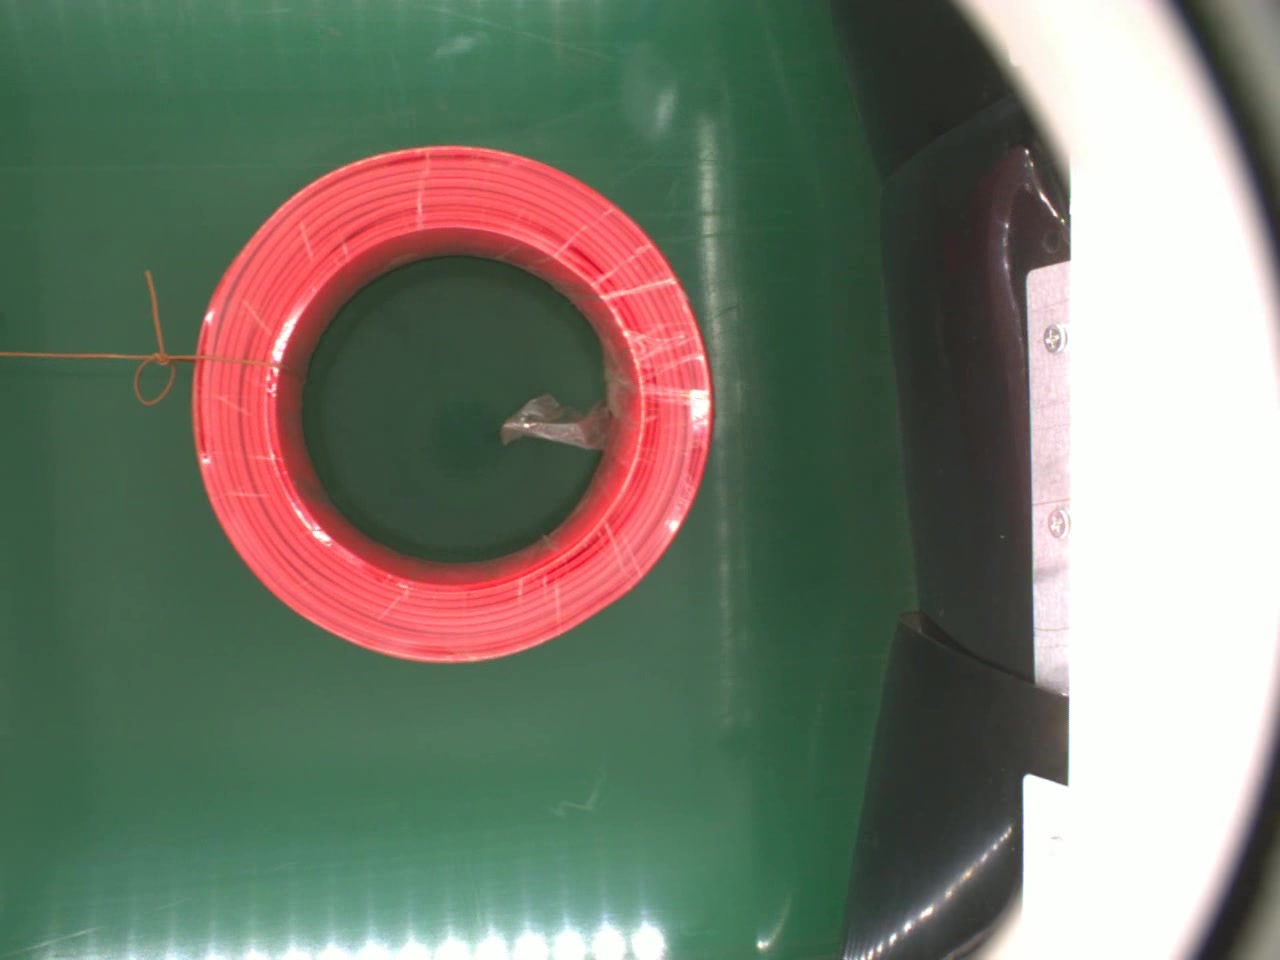red: (182, 131, 730, 670)
